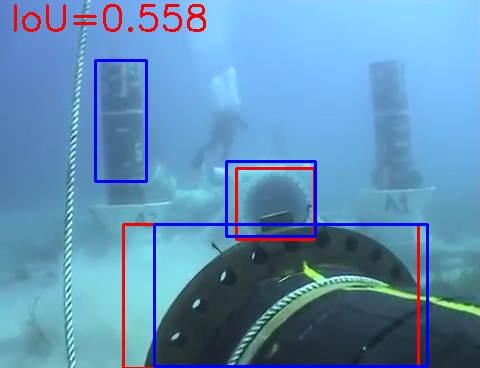flange joint: (124, 225, 418, 368), (237, 169, 314, 239)
